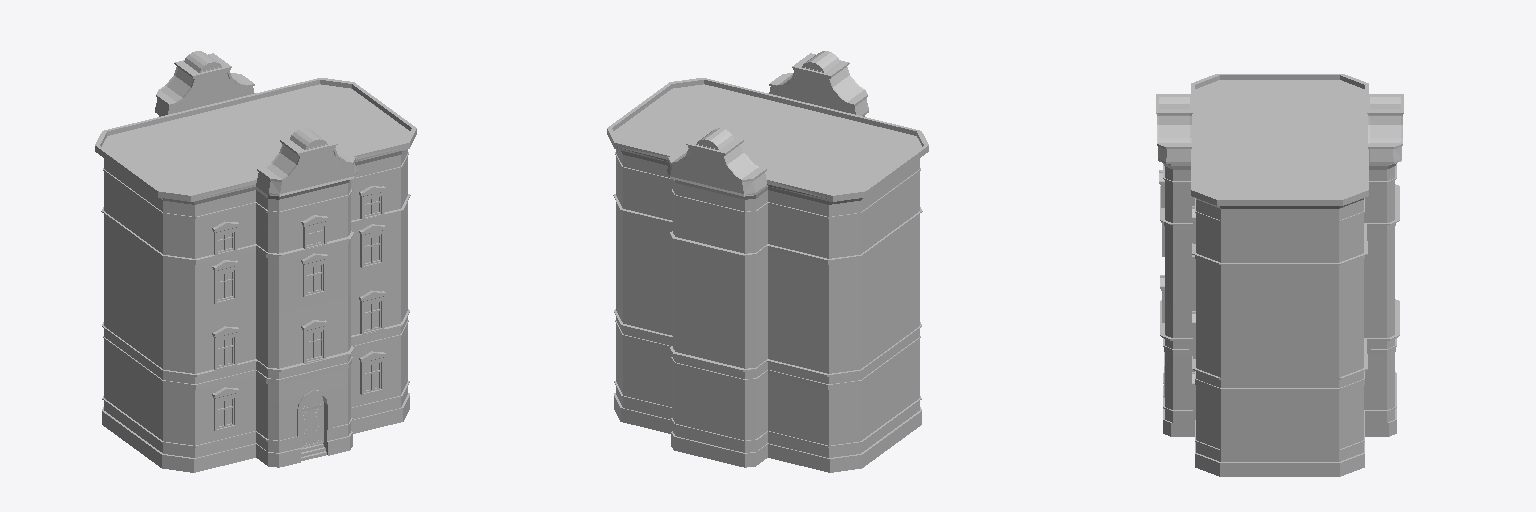
3 views of the same model, side by side, from view 1: azimuth 30°, elevation 25°; view 2: azimuth 150°, elevation 25°; view 3: azimuth 270°, elevation 25° (orthographic).
Visible parts, largest first — view 1: Building4.004_Cube.063; view 2: Building4.004_Cube.063; view 3: Building4.004_Cube.063.
Part boxes in pixels (bbox=[...]): Building4.004_Cube.063: bbox=[95, 51, 416, 472]; Building4.004_Cube.063: bbox=[607, 51, 928, 472]; Building4.004_Cube.063: bbox=[1156, 74, 1403, 476].
Size of the model in its own units: 1115 by 1317 by 925.